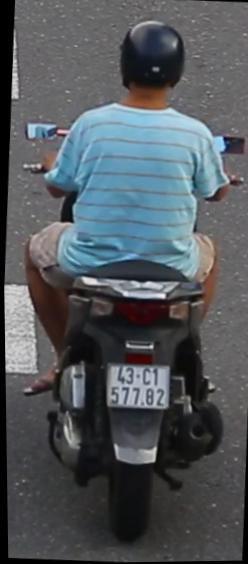LP: (101, 357, 172, 415)
helmet: (113, 15, 190, 116)
